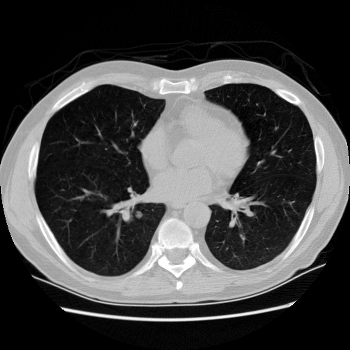nodule: (134, 210, 142, 218)
